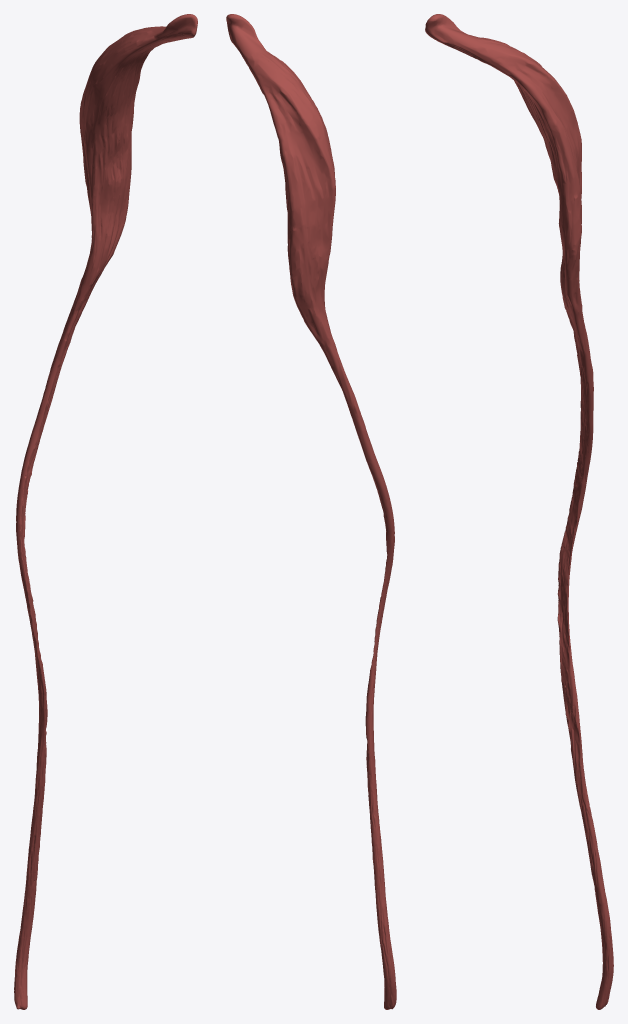
The model's file is FMA22561.glb.
The picture shows the model from 3 angles, left to right: view 1: azimuth 30°, elevation 25°; view 2: azimuth 210°, elevation 25°; view 3: azimuth 270°, elevation 25°; orthographic projection. The views are drawn at different scales.
Visible parts, largest first — view 1: FMA22561; view 2: FMA22561; view 3: FMA22561.
Part boxes in pixels (x1,y1,x2,y2): FMA22561: (14, 14, 197, 1009); FMA22561: (226, 14, 396, 1009); FMA22561: (425, 14, 613, 1009).
Bounding box in the file's own units: 0.0532 × 0.467 × 0.0771.
